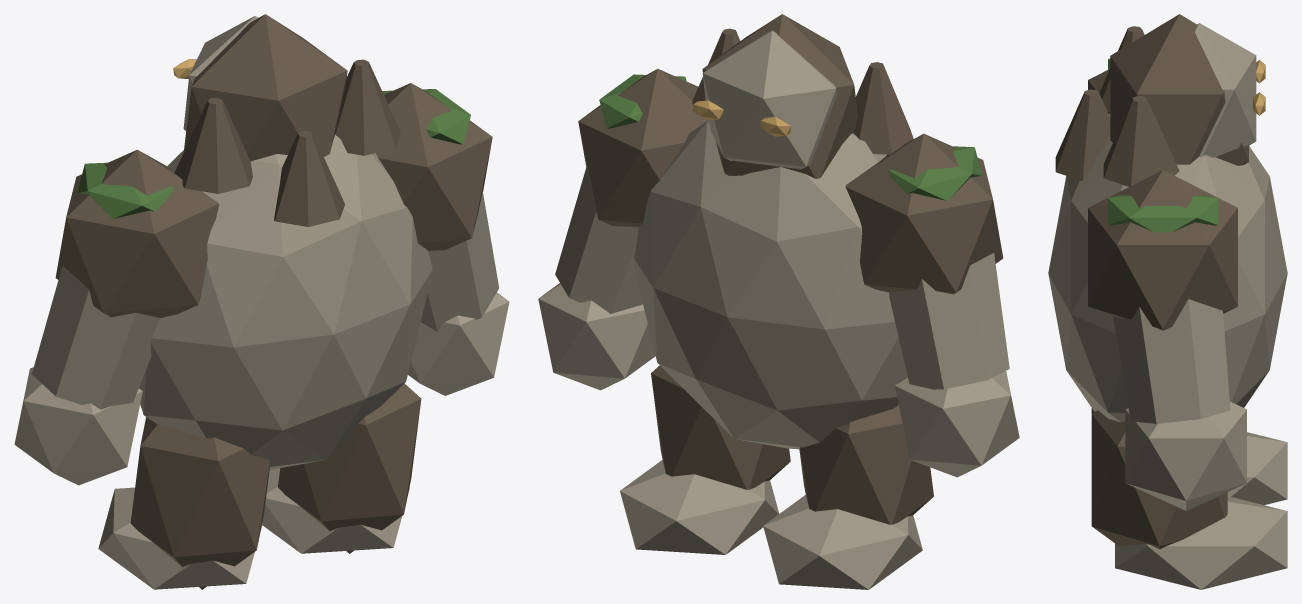
File: Monster_Stonebeast.fbx
3 views of the same model, side by side, from view 1: azimuth 30°, elevation 25°; view 2: azimuth 150°, elevation 25°; view 3: azimuth 270°, elevation 25° (orthographic). The views are drawn at different scales.
Parts seen in each view (by area): view 1: Monster_Stonebeast; view 2: Monster_Stonebeast; view 3: Monster_Stonebeast.
Boxes of the visible parts, x1,y1,x2,y2 form: Monster_Stonebeast: [14, 14, 509, 589]; Monster_Stonebeast: [538, 14, 1019, 589]; Monster_Stonebeast: [1048, 14, 1287, 589].
Bounding box in the file's own units: 3.17 × 3.54 × 1.44.
